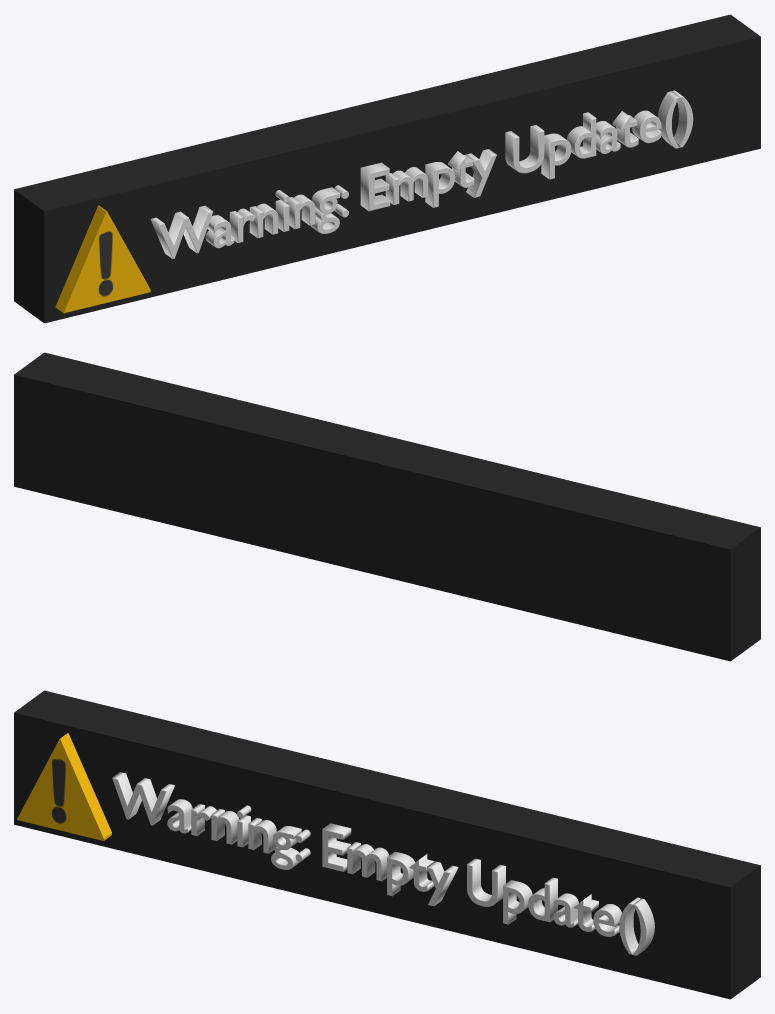
File: Warning_ Empty Update()1.fbx
The picture shows the model from 3 angles, top to bottom: view 1: azimuth 30°, elevation 25°; view 2: azimuth 150°, elevation 25°; view 3: azimuth 330°, elevation 25°; orthographic projection.
Visible parts, largest first — view 1: no2, Warning: Empty Update(); view 2: no2; view 3: no2, Warning: Empty Update().
Boxes of the visible parts, x1,y1,x2,y2 form: no2: [14, 14, 760, 323]; Warning: Empty Update(): [150, 90, 693, 259]; no2: [14, 352, 760, 661]; no2: [14, 690, 760, 999]; Warning: Empty Update(): [112, 772, 654, 955].
Bounding box in the file's own units: 2646 × 395 × 247.
